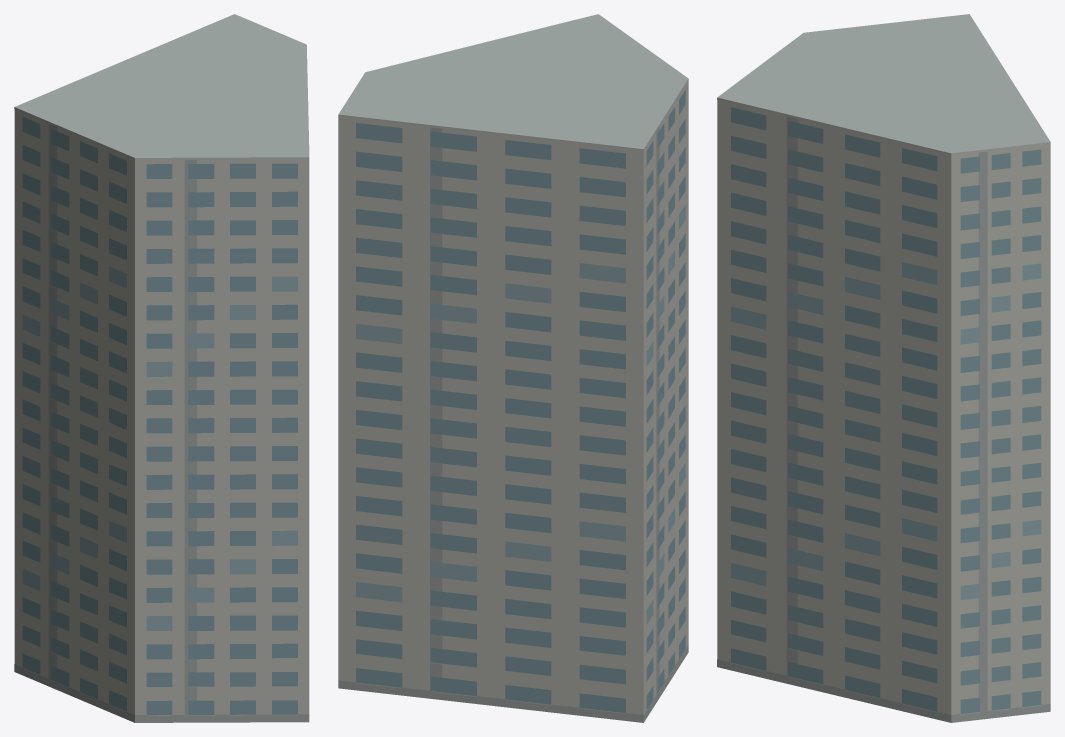
Rendered from residential-925aba96-85fa-4518-9ee5-e20464a4c27a.glb.
The picture shows the model from 3 angles, left to right: view 1: azimuth 30°, elevation 25°; view 2: azimuth 150°, elevation 25°; view 3: azimuth 270°, elevation 25°; orthographic projection.
Visible parts, largest first — view 1: residential-925aba96-85fa-4518-9ee5-e20464a4c27a.tmp; view 2: residential-925aba96-85fa-4518-9ee5-e20464a4c27a.tmp; view 3: residential-925aba96-85fa-4518-9ee5-e20464a4c27a.tmp.
Boxes of the visible parts, x1=… form: residential-925aba96-85fa-4518-9ee5-e20464a4c27a.tmp: x1=14, y1=14, x2=309, y2=722; residential-925aba96-85fa-4518-9ee5-e20464a4c27a.tmp: x1=338, y1=14, x2=688, y2=722; residential-925aba96-85fa-4518-9ee5-e20464a4c27a.tmp: x1=717, y1=14, x2=1050, y2=722.
Size of the model in its own units: 31.49 by 60 by 31.86.
